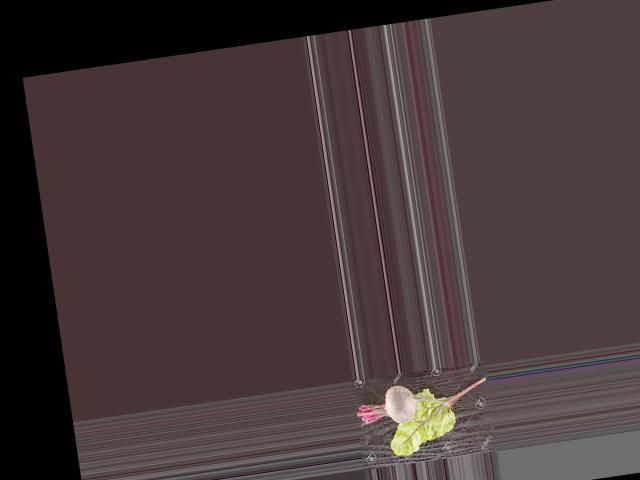beet: (352, 377, 453, 429)
